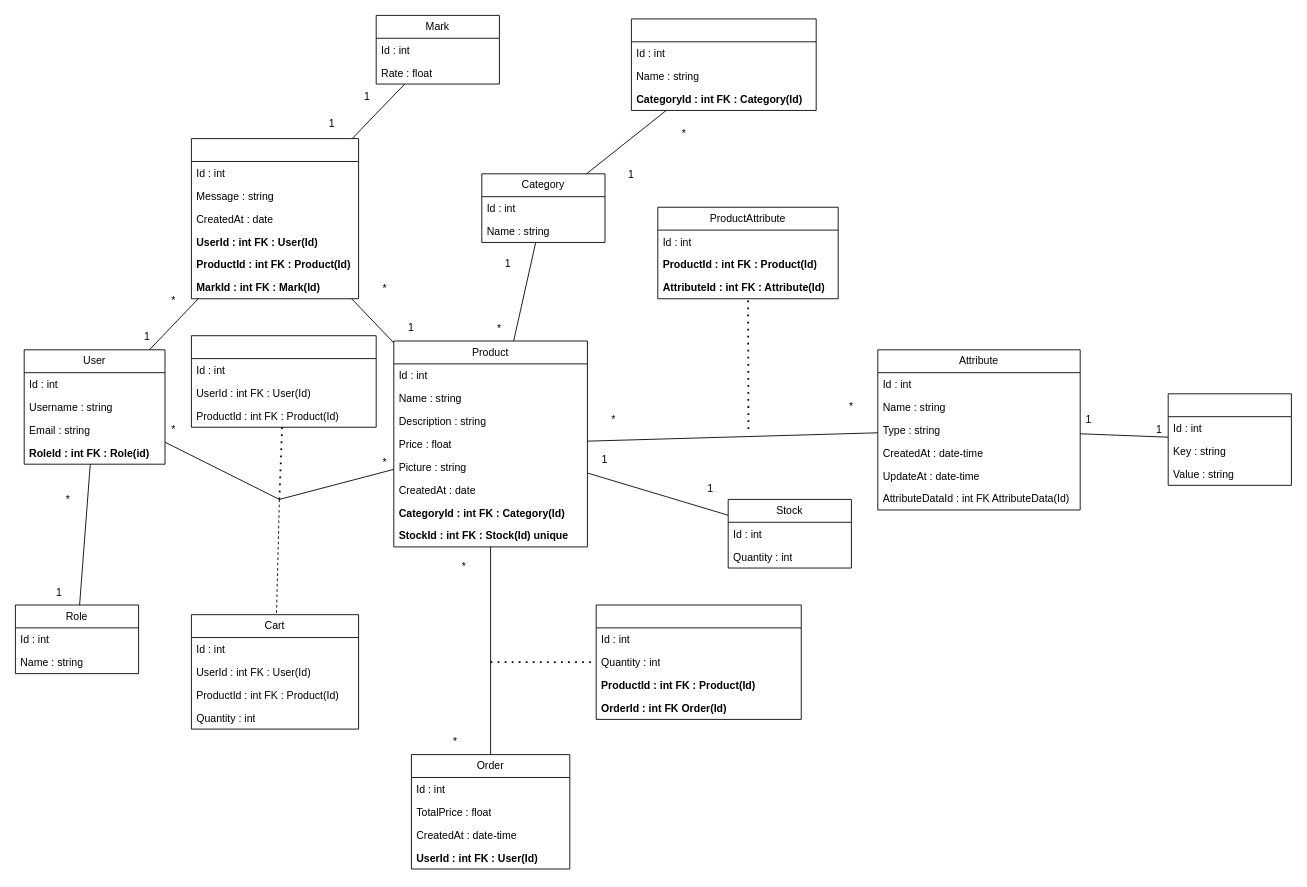
Some shapes in this 1307 by 887 pixel diagram are drawn without their labels. Each missing label, with the box of its shape:
AttributeData: (1167, 393, 1291, 485)
Comment: (191, 138, 359, 299)
OrderProduct: (595, 604, 801, 719)
SellerProduct: (191, 335, 376, 427)
Tag: (631, 18, 816, 110)
